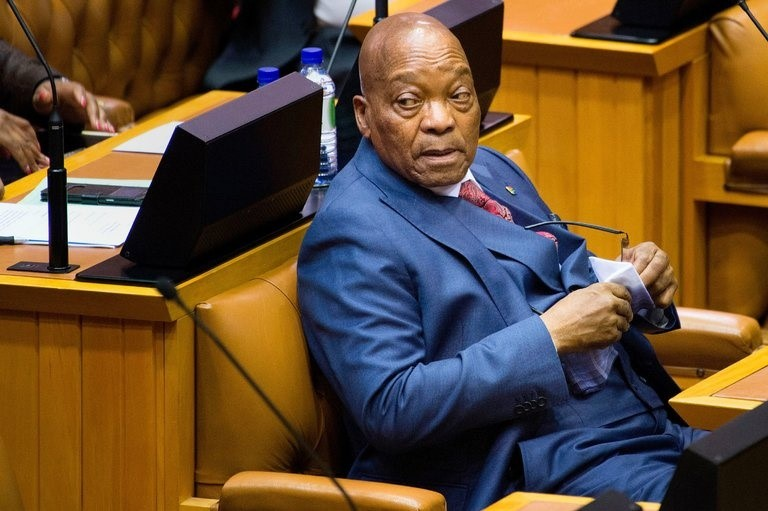face_no_mask: (353, 10, 481, 187)
